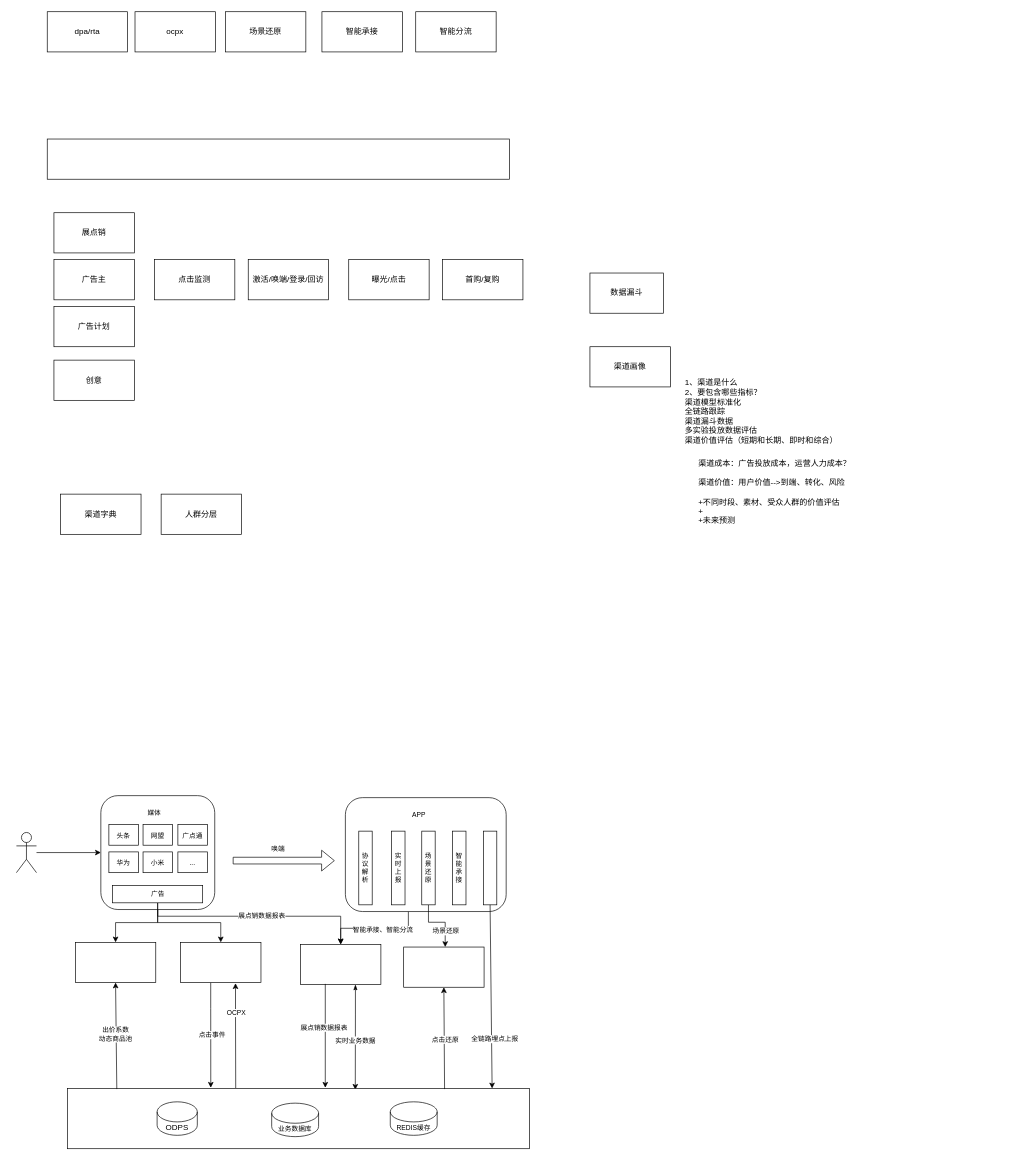
Image size: 1010x1160. Some labels were removed from this diagram. The shapes that lost their labels are listed below. From the top down, each one's centre as x and y in pixels, then its label:
At (x=278, y=158): "数据总线".
At (x=26, y=852): "C端用户".
At (x=490, y=867): "标准行为埋点".
At (x=115, y=962): "巨浪RTA&DPA服务".
At (x=220, y=962): "巨浪事件接收与OCPX".
At (x=340, y=964): "二三方服务".
At (x=443, y=966): "场景还原服务".
